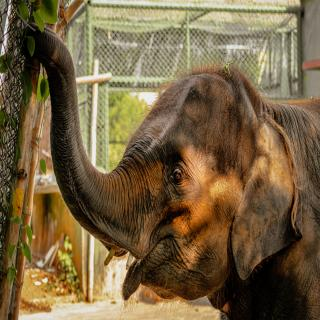Elephant: (21, 15, 320, 320)
